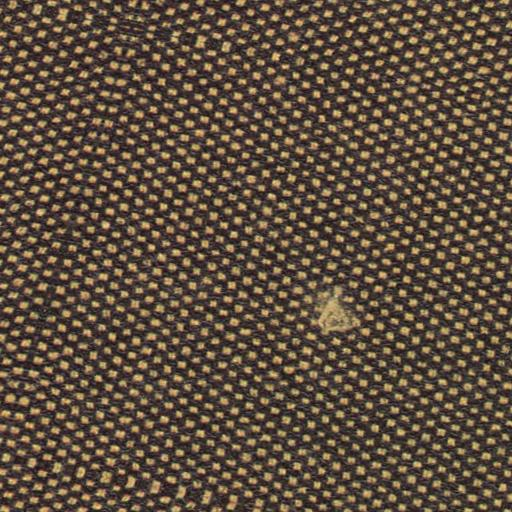knot: (306, 280, 376, 348)
